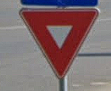cedeaza: (18, 5, 101, 81)
